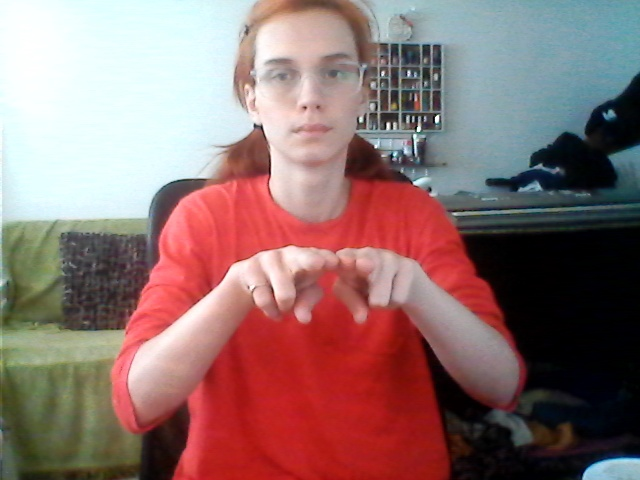brat: (241, 229, 428, 344)
